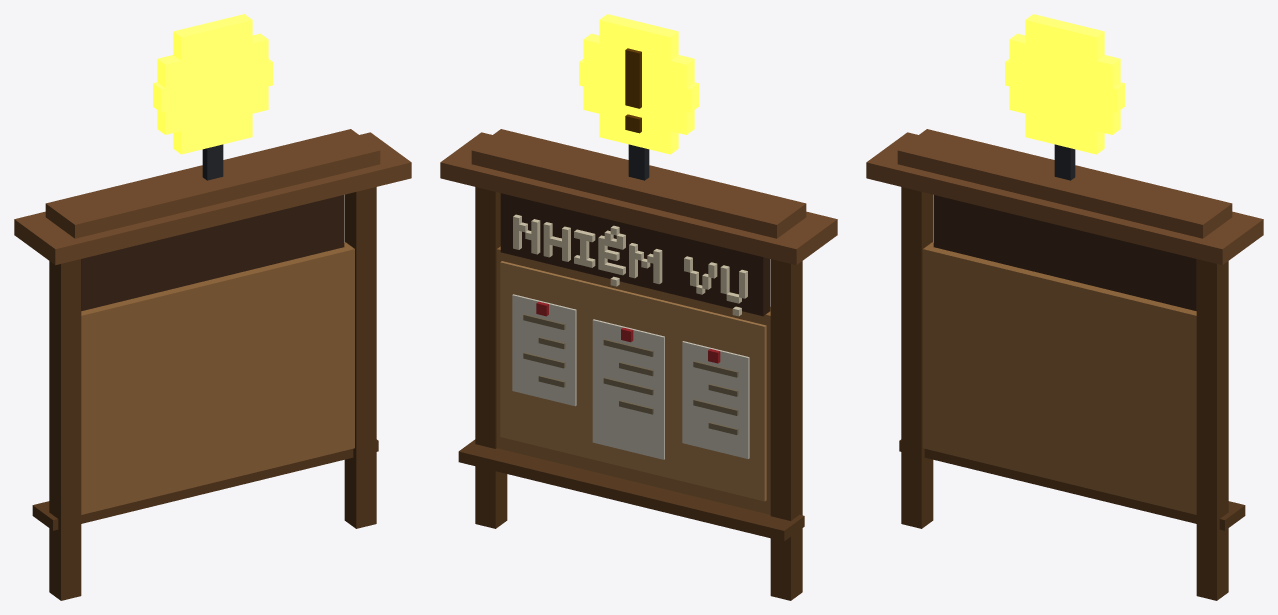
File: th-quest-board.glb
The picture shows the model from 3 angles, left to right: view 1: azimuth 30°, elevation 25°; view 2: azimuth 150°, elevation 25°; view 3: azimuth 330°, elevation 25°; orthographic projection.
Visible parts, largest first — view 1: box-prop; view 2: box-prop; view 3: box-prop.
Boxes of the visible parts, x1=… form: box-prop: x1=14, y1=14, x2=411, y2=600; box-prop: x1=440, y1=14, x2=837, y2=600; box-prop: x1=866, y1=14, x2=1263, y2=600.
Size of the model in its own units: 3.5 by 5 by 0.7.
